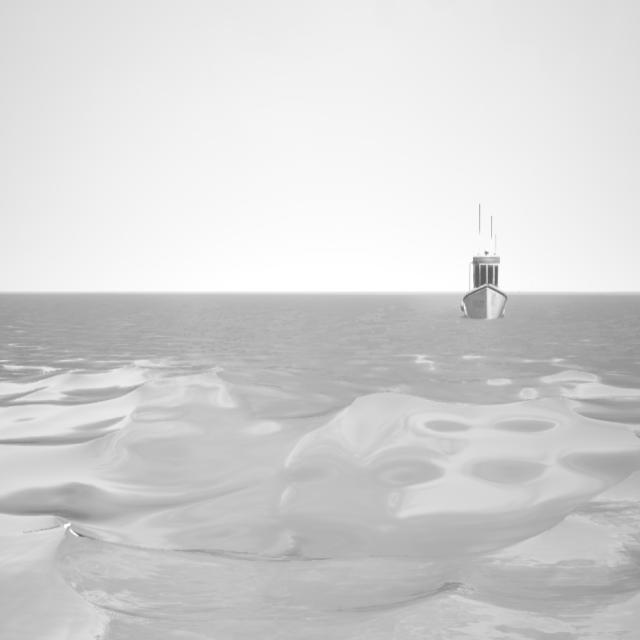ship: (457, 197, 509, 324)
